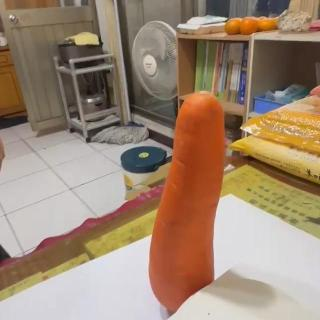carrot: (147, 91, 227, 317)
